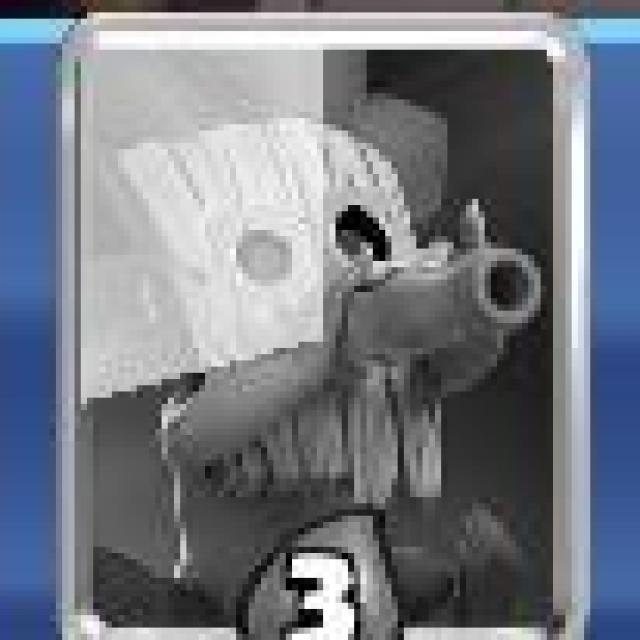Dart_Goblin: (54, 7, 593, 640)
